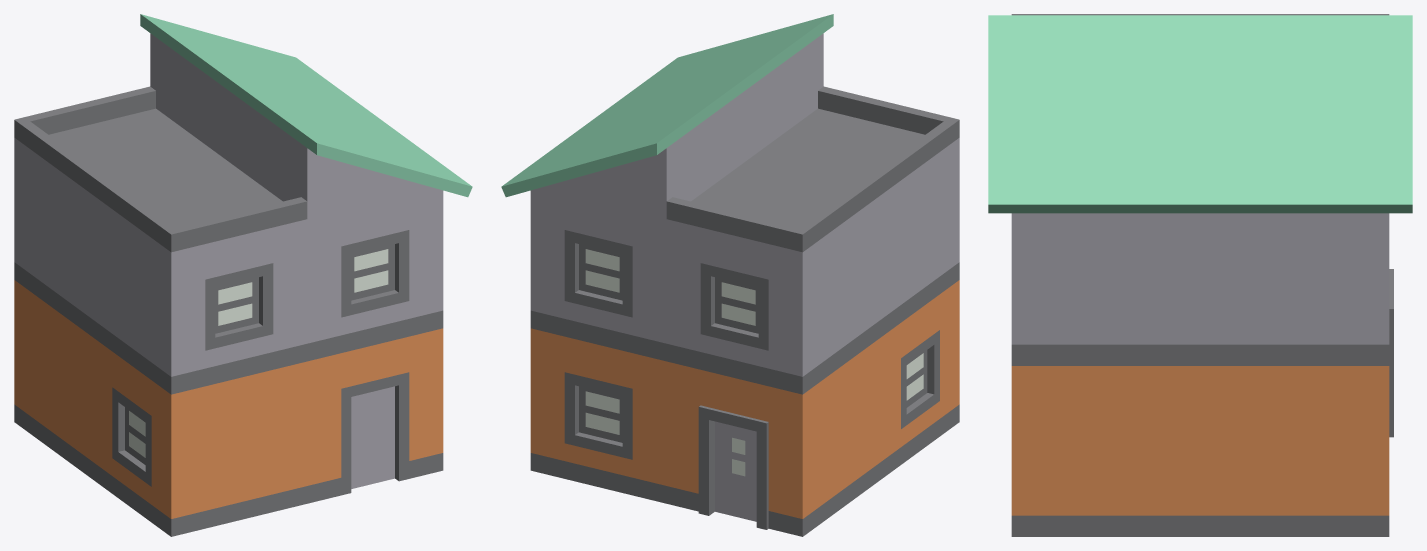
File: htype21.glb
3 renders of one model, left to right at view 1: azimuth 30°, elevation 25°; view 2: azimuth 150°, elevation 25°; view 3: azimuth 270°, elevation 25°, orthographic. The views are drawn at different scales.
Visible parts, largest first — view 1: house_type21 -convcol; view 2: house_type21 -convcol; view 3: house_type21 -convcol.
Part boxes in pixels (<box>): house_type21 -convcol: <box>14,14,472,536</box>; house_type21 -convcol: <box>501,14,959,536</box>; house_type21 -convcol: <box>988,14,1412,536</box>.
Bounding box in the file's own units: 17.16 × 20.67 × 18.
